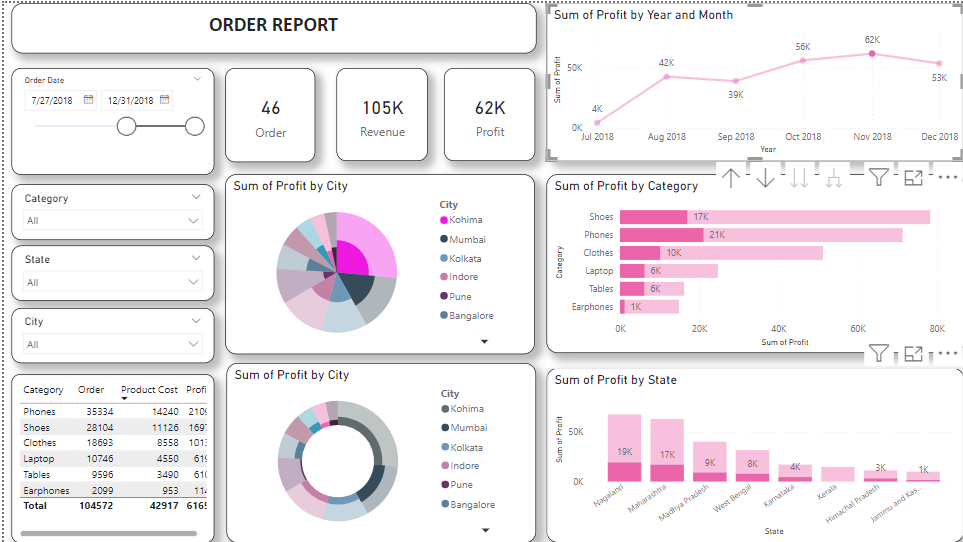

The page's visual inventory and layout, read from the dashboard file:
{"tool":"powerbi","page":{"name":"Page 1","canvas":[1280,720],"ordinal":0},"visuals":[{"type":"textbox","box":[10,0,700,67.1],"z":0},{"type":"card","fields":{"Values":["CountNonNull(Orders.Order ID)"]},"box":[295.7,87.1,120,125.7],"z":1000},{"type":"card","fields":{"Values":["Sum(Orders.order_total)"]},"box":[442.9,87.1,121.4,124.3],"z":2000},{"type":"card","fields":{"Values":["Sum(Orders.Profit)"]},"box":[587.1,87.1,121.4,124.3],"z":3000},{"type":"tableEx","fields":{"Values":["Orders.Category","Sum(Orders.order_total)","Sum(Orders.Product cost)","Sum(Orders.Profit)"]},"box":[10,495,270,225],"z":4000},{"type":"lineChart","fields":{"Category":["Orders.Order Date.Variation.Date Hierarchy.Year","Orders.Order Date.Variation.Date Hierarchy.Month"],"Y":["Sum(Orders.Profit)"]},"box":[722.9,0,557.1,210],"z":5000},{"type":"clusteredBarChart","fields":{"Y":["Sum(Orders.Profit)"],"Category":["Orders.Category"]},"box":[722.9,228.6,557.1,238.6],"z":6000},{"type":"clusteredColumnChart","fields":{"Y":["Sum(Orders.Profit)"],"Category":["Orders.State"]},"box":[722.9,487.1,557.1,232.9],"z":6001},{"type":"pieChart","fields":{"Category":["Orders.City"],"Y":["Sum(Orders.Profit)"]},"box":[295.7,228.6,412.9,240],"z":6002},{"type":"donutChart","fields":{"Category":["Orders.City"],"Y":["Sum(Orders.Profit)"]},"box":[297.1,480,412.9,240],"z":6003},{"type":"slicer","fields":{"Values":["Orders.Order Date"]},"box":[10,87,270,142],"z":6004},{"type":"slicer","fields":{"Values":["Orders.Category"]},"box":[10,241.7,270,74.2],"z":6005},{"type":"slicer","fields":{"Values":["Orders.State"]},"box":[10,323.3,270,73.3],"z":6006},{"type":"slicer","fields":{"Values":["Orders.City"]},"box":[10,406.7,270,73.3],"z":6007}]}

Visuals, with their boxes in screenshot pixels (x1, y1, x2, y2), scaled from the page's 1280x720 canvas onto the 963x542 screenshot:
textbox: 8,0,534,51
card - CountNonNull(Orders.Order ID): 222,66,313,160
card - Sum(Orders.order_total): 333,66,425,159
card - Sum(Orders.Profit): 442,66,533,159
tableEx - Orders.Category x Sum(Orders.order_total): 8,373,211,541
lineChart - Orders.Order Date.Variation.Date Hierarchy.Year x Orders.Order Date.Variation.Date Hierarchy.Month: 544,0,962,158
clusteredBarChart - Sum(Orders.Profit) x Orders.Category: 544,172,962,352
clusteredColumnChart - Sum(Orders.Profit) x Orders.State: 544,367,962,541
pieChart - Orders.City x Sum(Orders.Profit): 222,172,533,353
donutChart - Orders.City x Sum(Orders.Profit): 224,361,534,541
slicer - Orders.Order Date: 8,65,211,172
slicer - Orders.Category: 8,182,211,238
slicer - Orders.State: 8,243,211,299
slicer - Orders.City: 8,306,211,361
